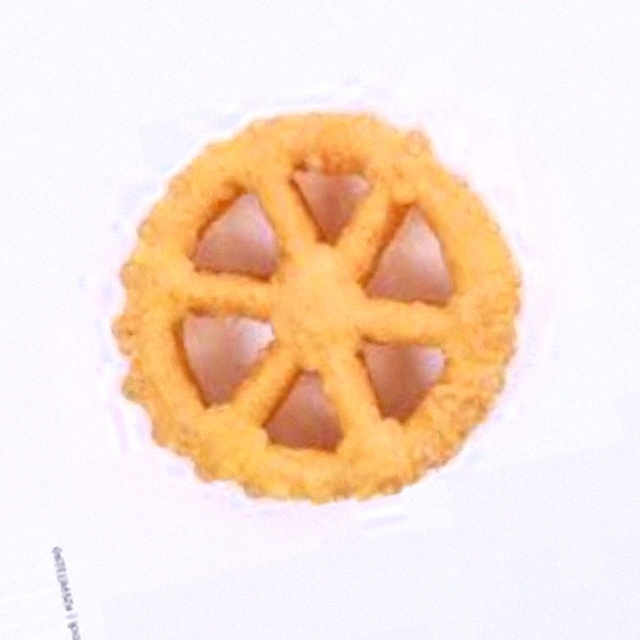Kokis: (107, 119, 533, 521)
